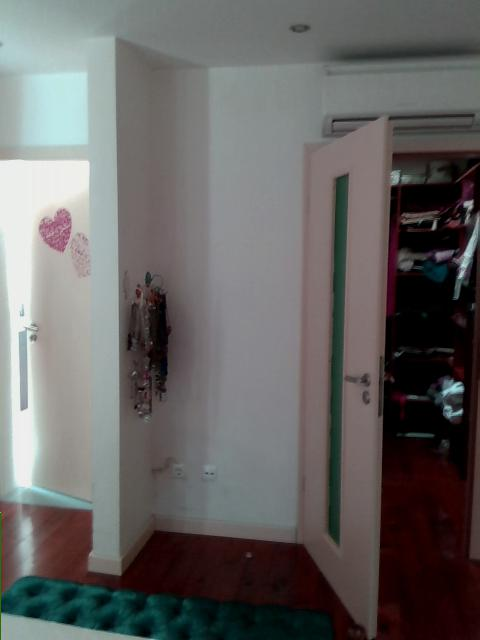semi_door: (299, 109, 479, 639)
